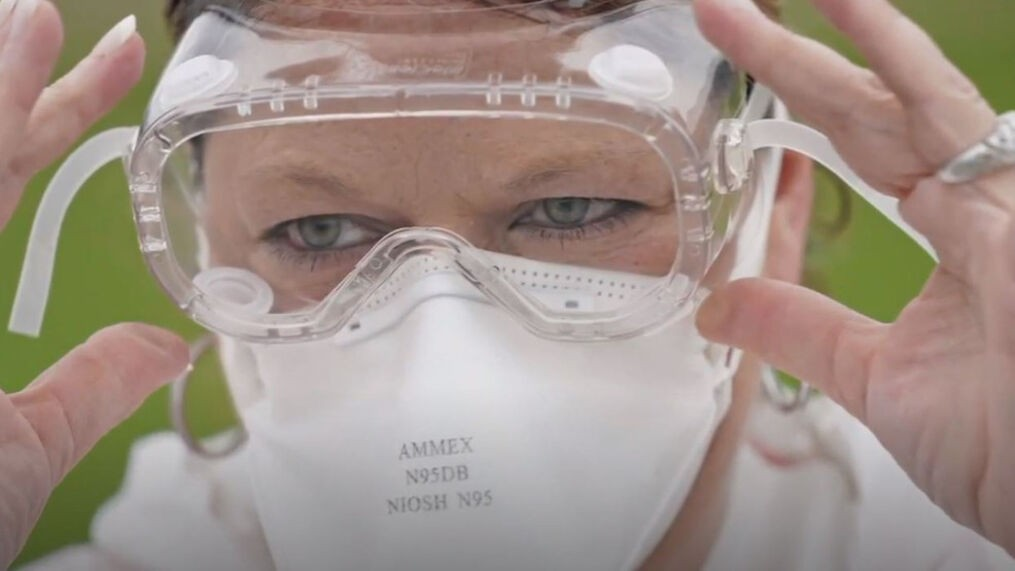Goggles: (121, 12, 777, 346)
with_mask: (226, 189, 732, 571)
